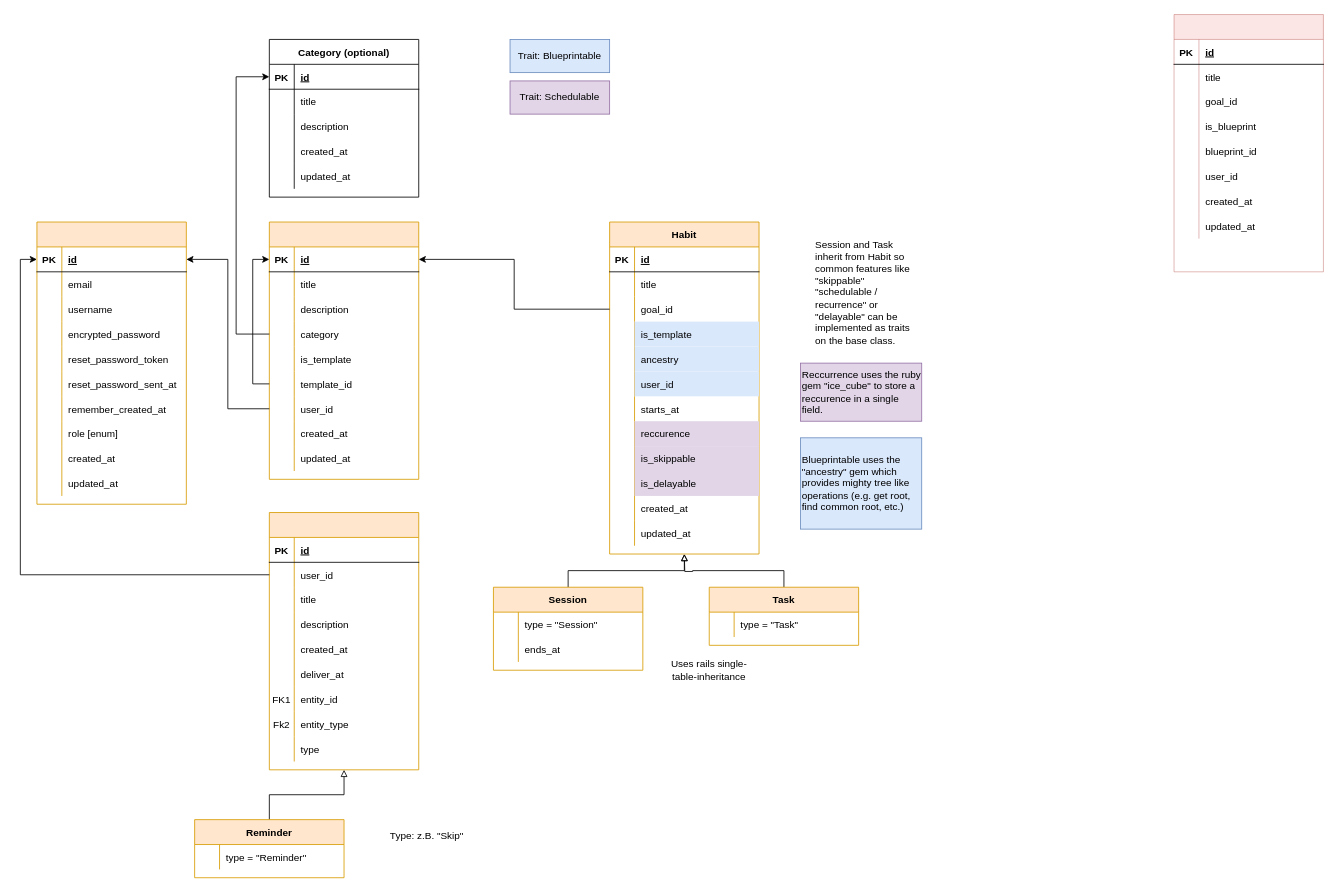
Some shapes in this 1338 by 892 pixel diagram are drawn without their labels. The box of each missing label's shape, as (x1, y1, x2, y2) in pixels:
Goals: (269, 221, 419, 479)
Notification: (269, 512, 419, 770)
Strategies: (1173, 14, 1323, 272)
Users: (36, 221, 186, 504)
